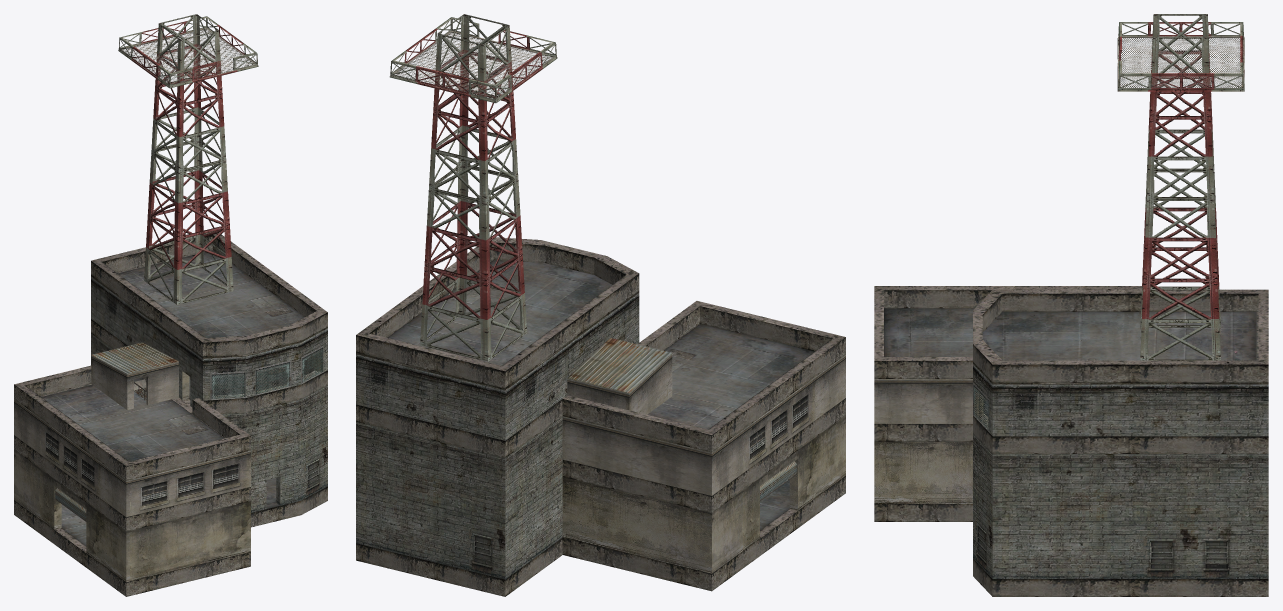
File: RdioBld2.glb
3 renders of one model, left to right at view 1: azimuth 30°, elevation 25°; view 2: azimuth 150°, elevation 25°; view 3: azimuth 270°, elevation 25°, orthographic. The views are drawn at different scales.
Visible parts, largest first — view 1: _RdioBld2; view 2: _RdioBld2; view 3: _RdioBld2.
Part boxes in pixels (left/top/right/bottom): _RdioBld2: left=14, top=14, right=327, bottom=596; _RdioBld2: left=356, top=14, right=845, bottom=596; _RdioBld2: left=874, top=14, right=1268, bottom=596.
Size of the model in its own units: 22.5 by 37.34 by 25.
Materials: 6 (6 with a texture image).
